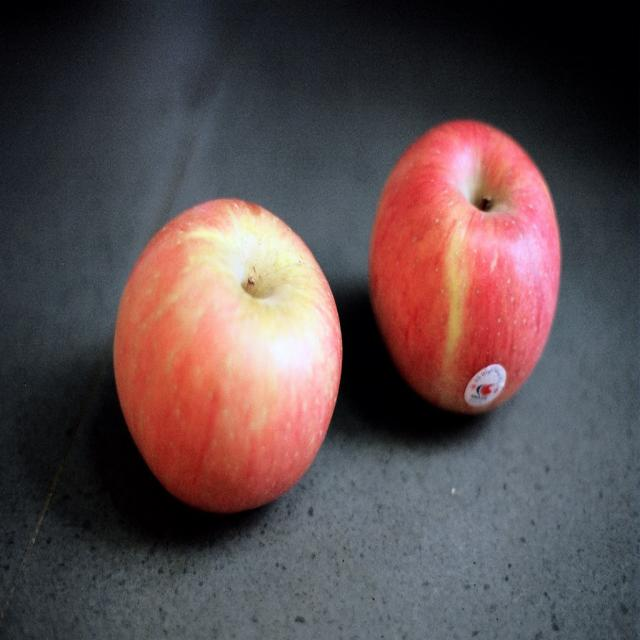Apple: (111, 195, 345, 517), (371, 115, 564, 411)
